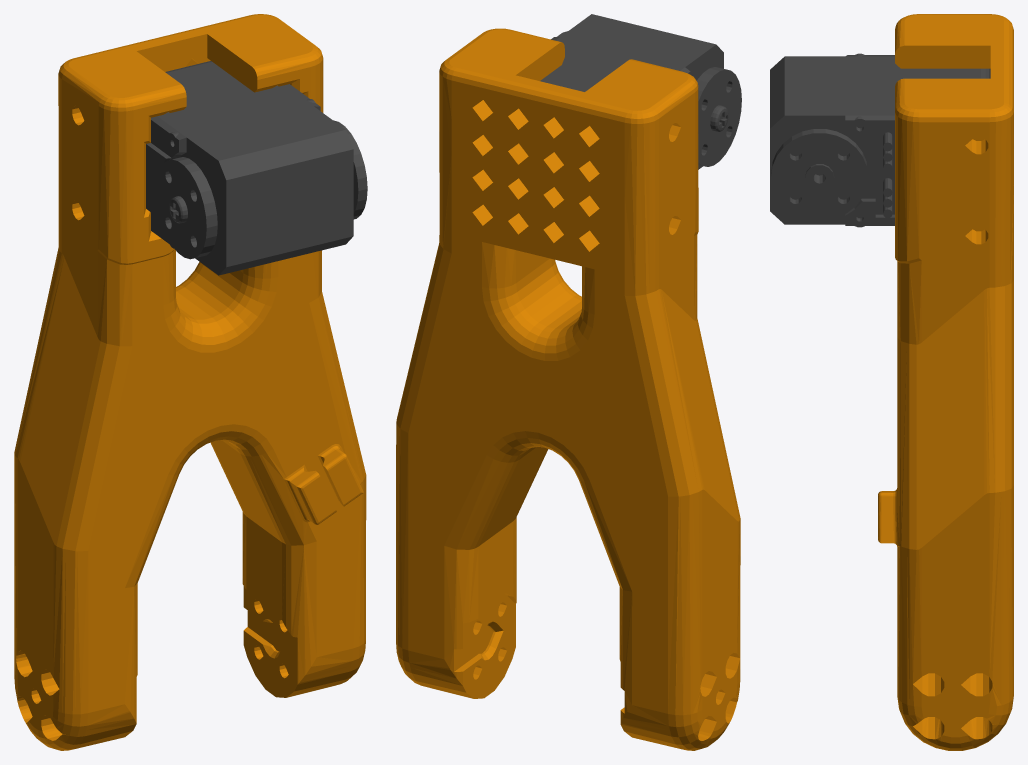
Rendered from Upper_Arm.glb.
3 renders of one model, left to right at view 1: azimuth 30°, elevation 25°; view 2: azimuth 150°, elevation 25°; view 3: azimuth 270°, elevation 25°, orthographic. The views are drawn at different scales.
Visible parts, largest first — view 1: Upper_Arm_0, Upper_Arm_1; view 2: Upper_Arm_0, Upper_Arm_1; view 3: Upper_Arm_0, Upper_Arm_1.
Boxes of the visible parts, left/top/right/bottom form: Upper_Arm_0: left=14, top=14, right=366, bottom=750; Upper_Arm_1: left=146, top=61, right=367, bottom=275; Upper_Arm_0: left=396, top=28, right=740, bottom=750; Upper_Arm_1: left=540, top=14, right=741, bottom=169; Upper_Arm_0: left=878, top=14, right=1013, bottom=750; Upper_Arm_1: left=770, top=53, right=990, bottom=227.
Size of the model in its own units: 0.07 by 0.1421 by 0.0502.
